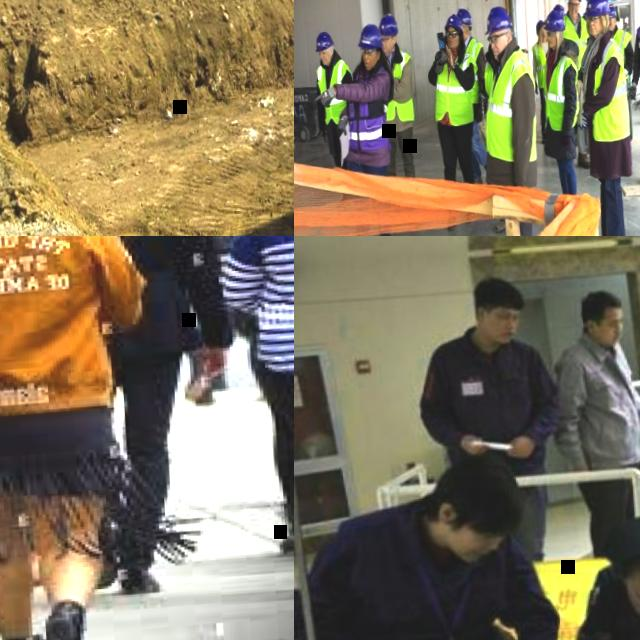Hardhat: (483, 5, 512, 35), (356, 22, 383, 51), (542, 8, 564, 32), (378, 12, 399, 36), (582, 0, 609, 17), (444, 11, 464, 33), (314, 31, 334, 52), (456, 7, 472, 26), (535, 19, 547, 35), (608, 4, 619, 18), (552, 3, 565, 13)
NO-Hardhat: (447, 454, 527, 537), (470, 273, 526, 309), (611, 523, 640, 577), (579, 288, 624, 317)
NO-Mask: (444, 531, 487, 564), (480, 319, 513, 346), (594, 326, 619, 348), (492, 45, 503, 60), (589, 25, 601, 36), (364, 58, 374, 70), (447, 39, 458, 49), (569, 9, 578, 18), (321, 56, 330, 65), (383, 45, 392, 53), (548, 40, 556, 48), (608, 23, 615, 31), (543, 31, 547, 36)
NO-Safety Vest: (325, 502, 511, 640), (0, 236, 125, 408), (57, 236, 188, 348), (437, 344, 550, 458), (566, 339, 640, 467), (250, 236, 294, 367), (596, 585, 640, 640)
Person: (28, 236, 255, 602), (0, 236, 163, 640), (294, 450, 574, 640), (411, 266, 570, 569), (206, 236, 294, 566), (544, 282, 640, 566), (142, 236, 261, 412), (307, 20, 403, 236), (472, 2, 548, 236), (568, 0, 639, 236), (424, 12, 486, 230), (543, 509, 640, 640), (532, 9, 587, 195), (312, 29, 361, 201), (376, 12, 420, 178), (454, 6, 493, 183), (277, 236, 294, 640), (558, 0, 598, 171), (607, 3, 640, 142), (619, 0, 640, 192), (530, 18, 554, 143), (482, 45, 497, 97), (553, 2, 565, 24)
Safety Vest: (479, 47, 542, 164), (586, 37, 631, 144), (342, 64, 397, 151), (430, 49, 481, 128), (539, 55, 582, 131), (316, 57, 355, 125), (380, 49, 415, 123), (563, 14, 590, 72), (463, 38, 487, 102), (612, 27, 636, 89), (531, 43, 549, 90)
